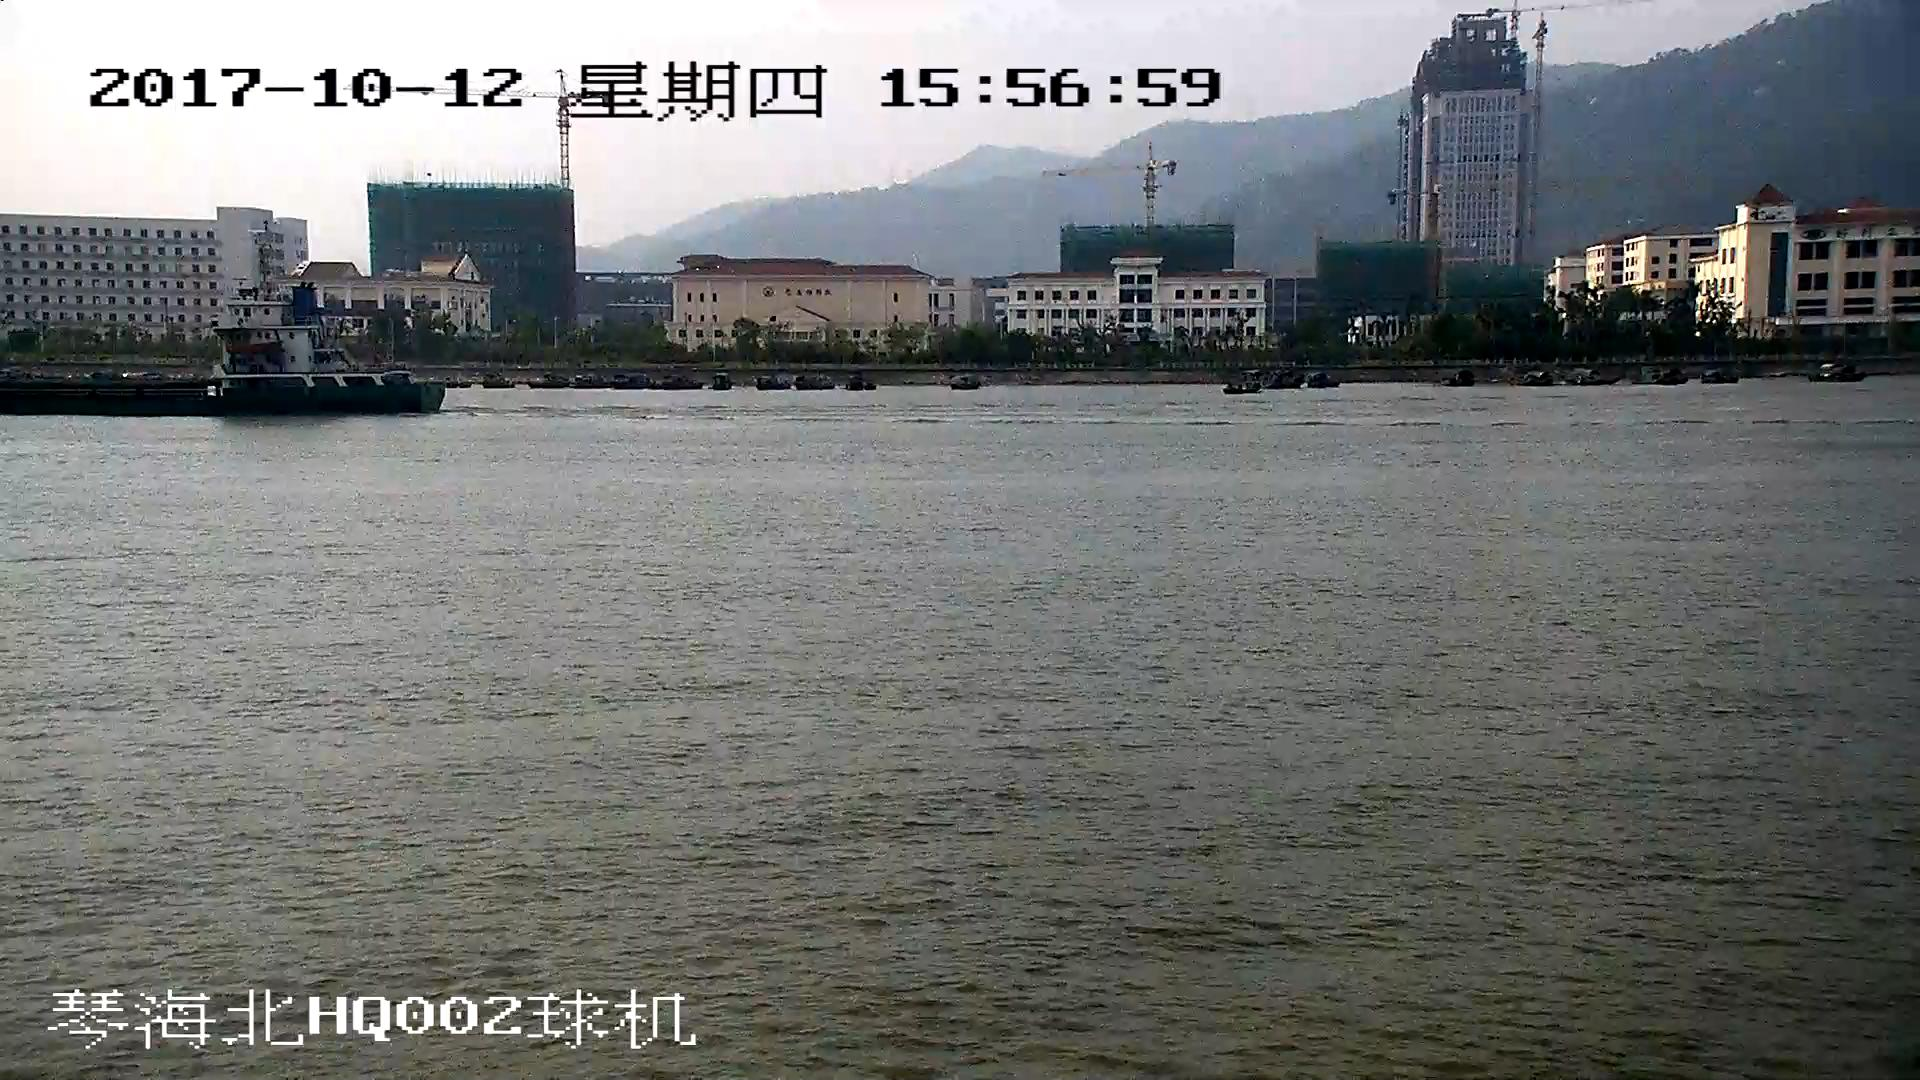general cargo ship: (1, 265, 445, 417)
